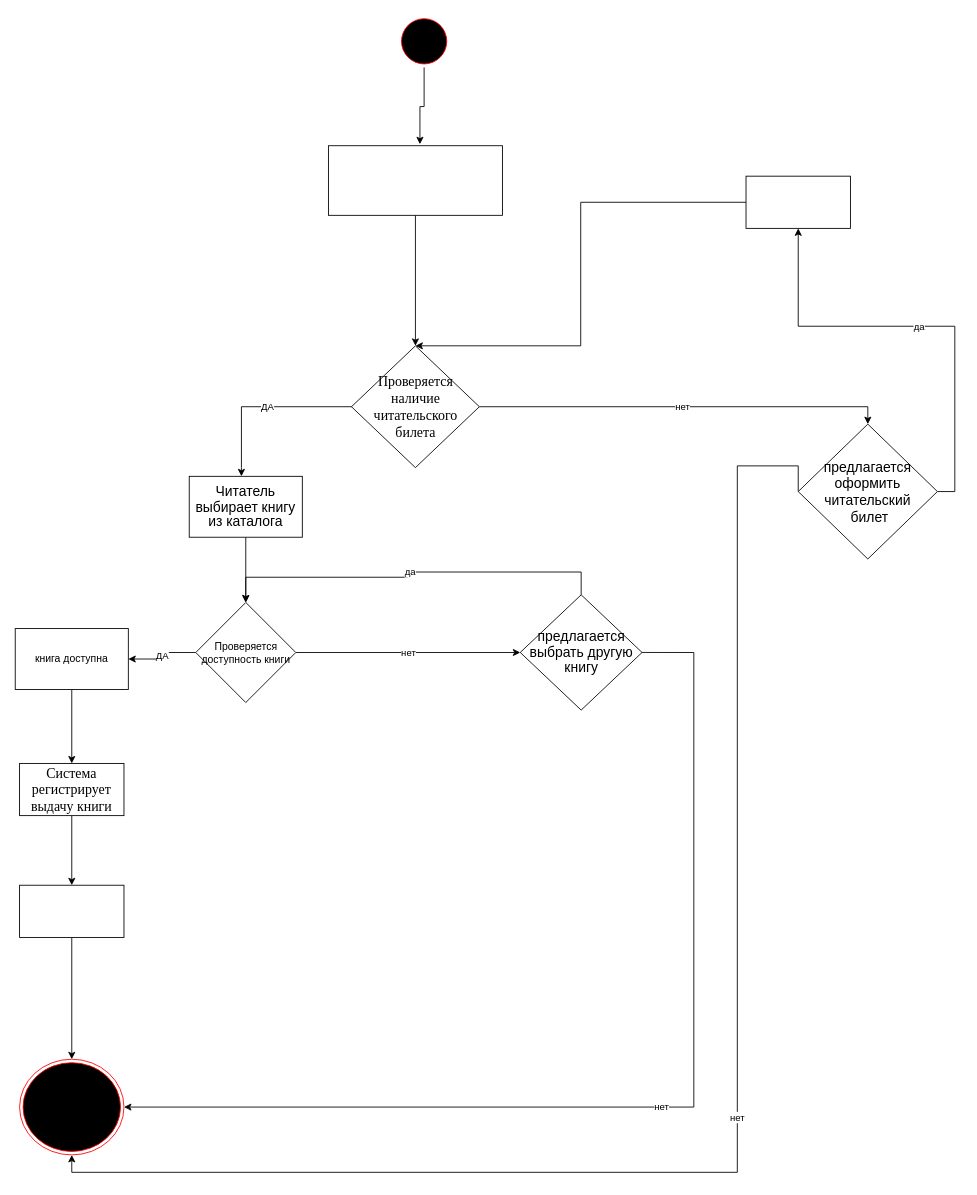
Some shapes in this 977 by 1195 pixel diagram are drawn without their labels. The shapes that lost their labels are listed below. From the top down, each one's centre as x and y in pixels, then its label:
At (x=415, y=180): "Читатель приходит в библиотеку".
At (x=797, y=201): "оформляется читательский билет".
At (x=71, y=910): "Читатель получает книгу".
